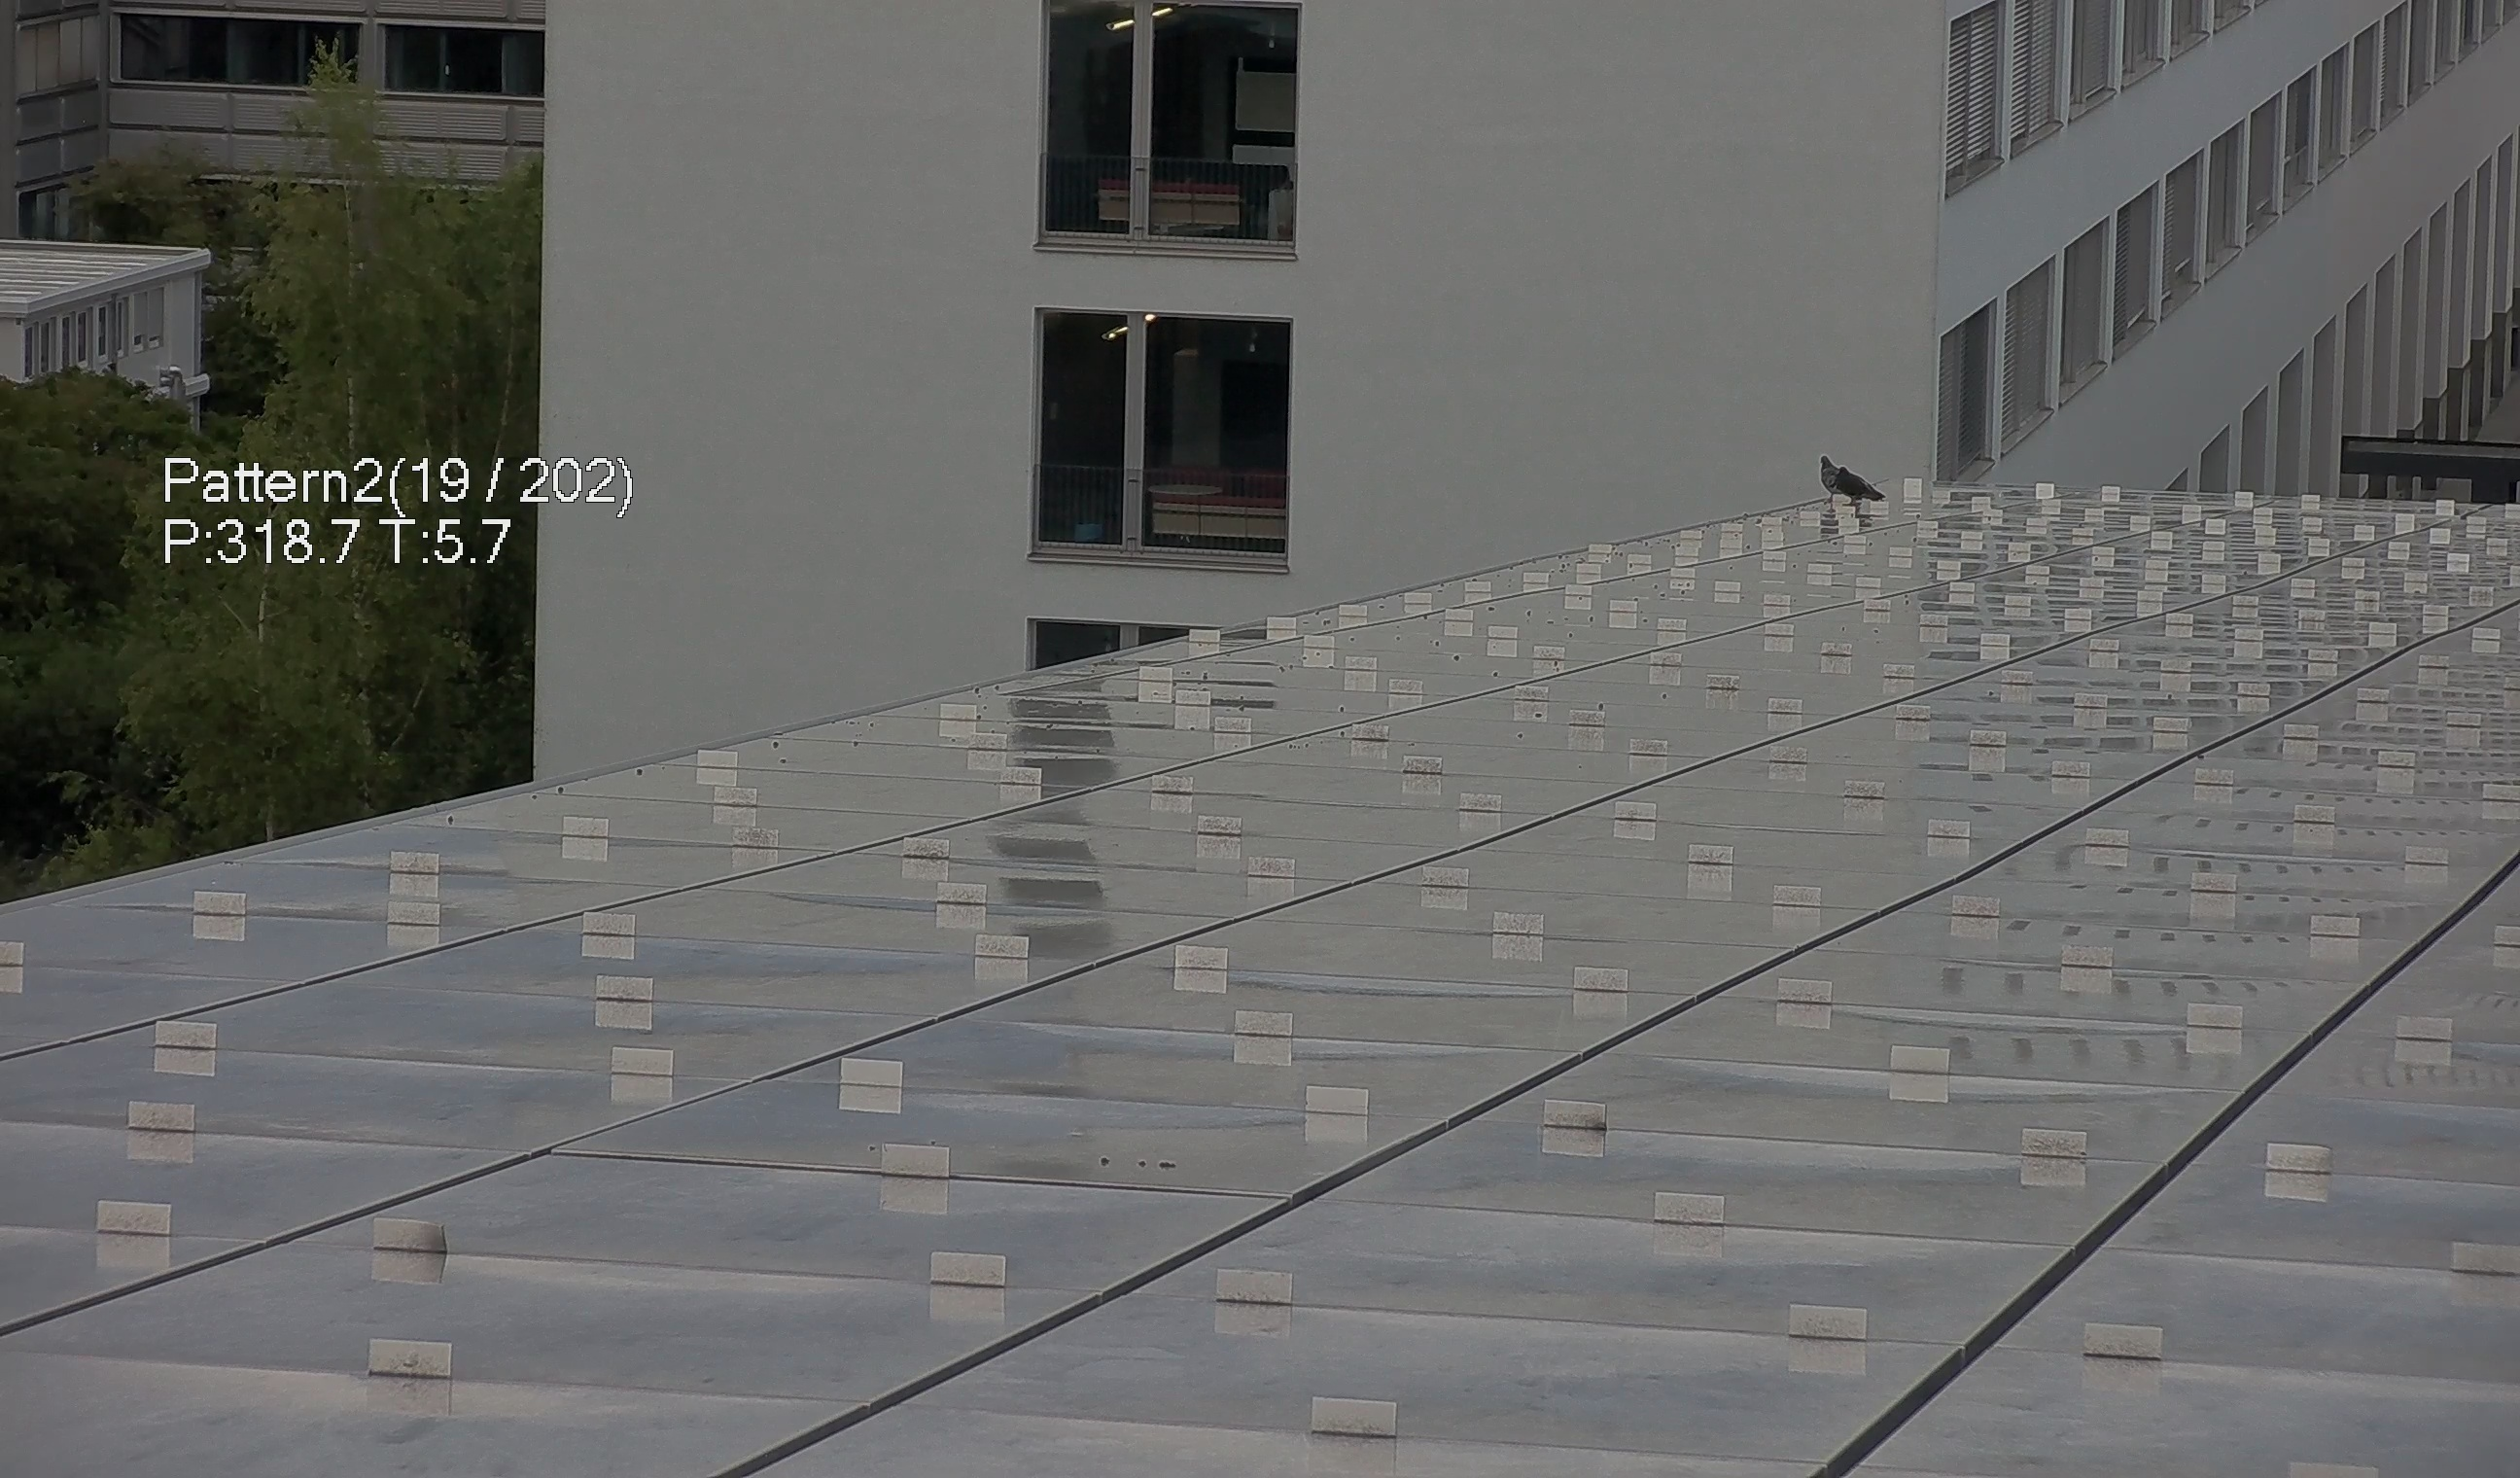Pigeon: (1815, 440, 1864, 512), (1832, 465, 1878, 512)
